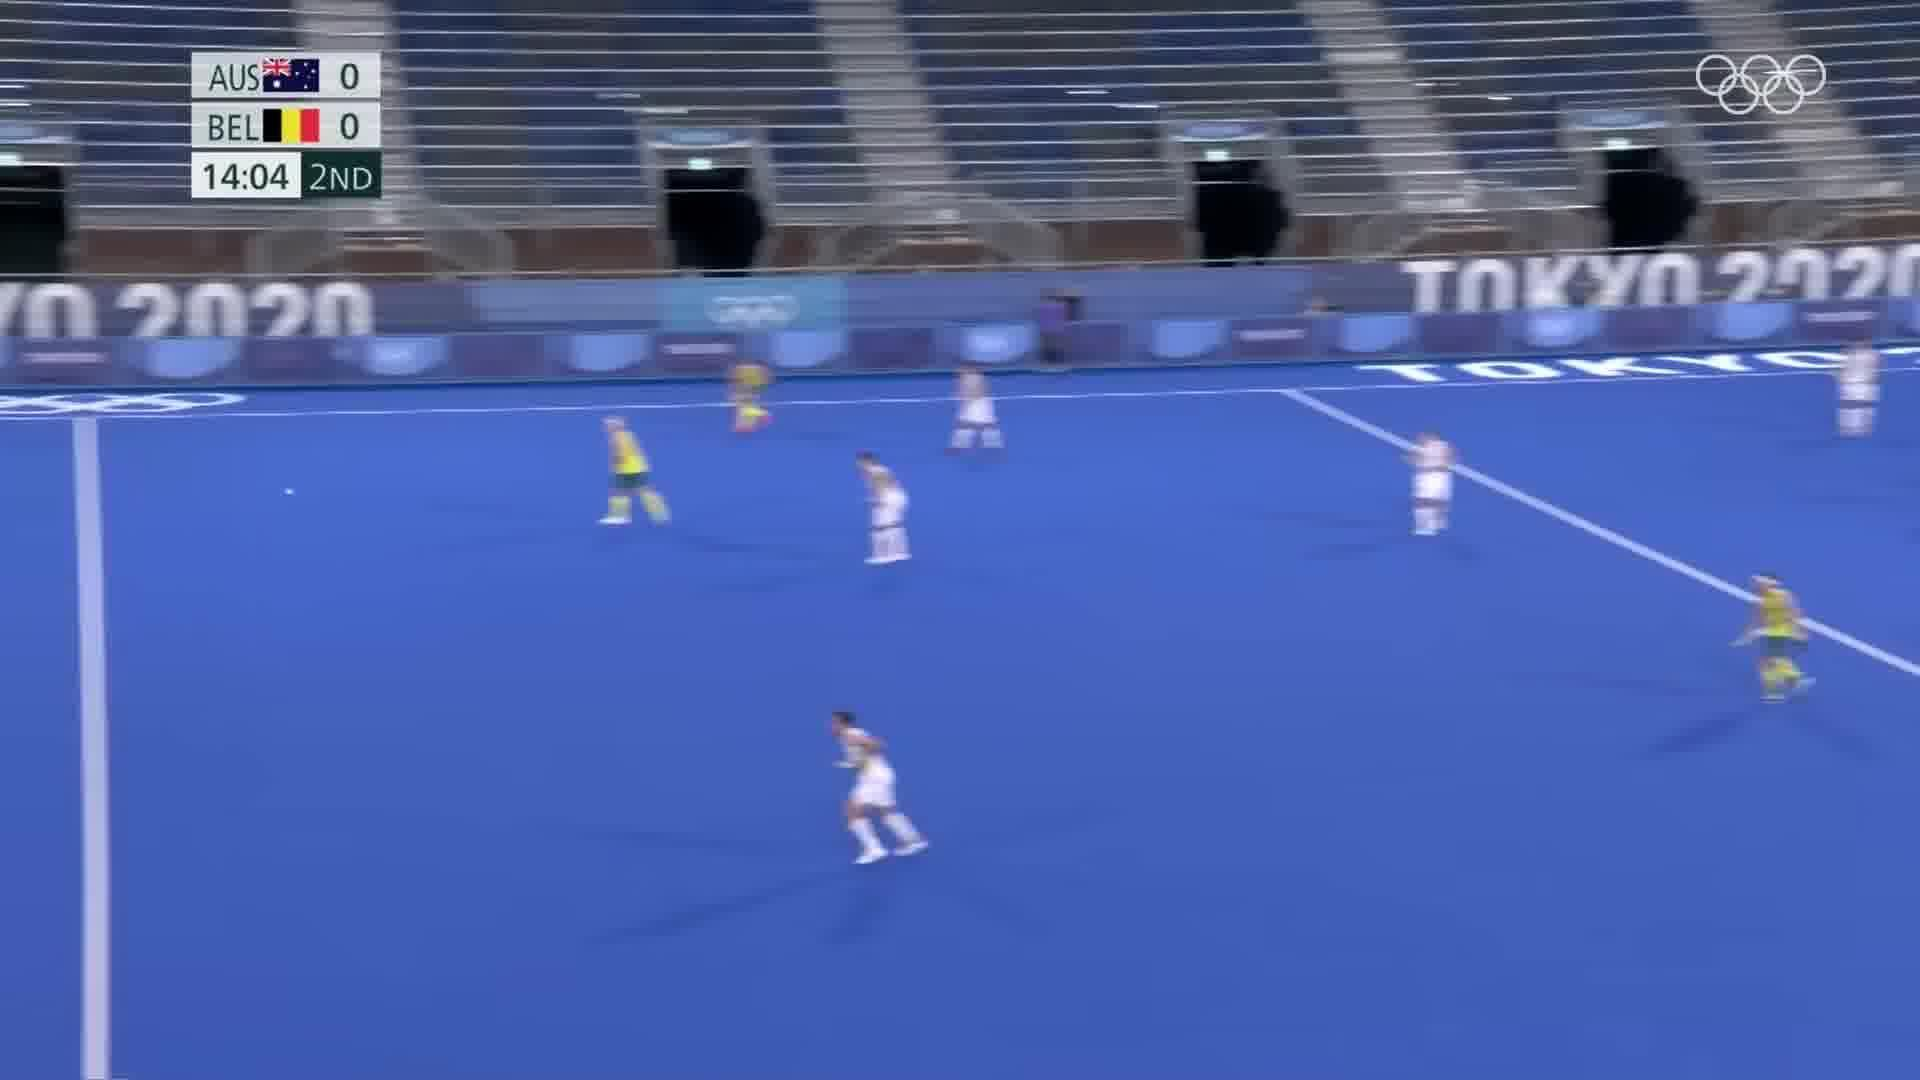ball: (280, 484, 295, 496)
